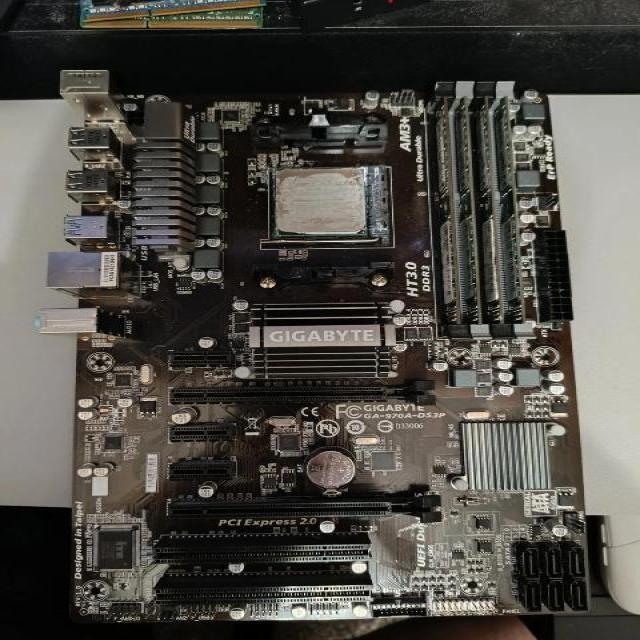CPU: (272, 168, 368, 237)
RAM: (492, 95, 527, 324), (471, 95, 505, 324), (453, 96, 483, 324), (432, 96, 461, 325)
